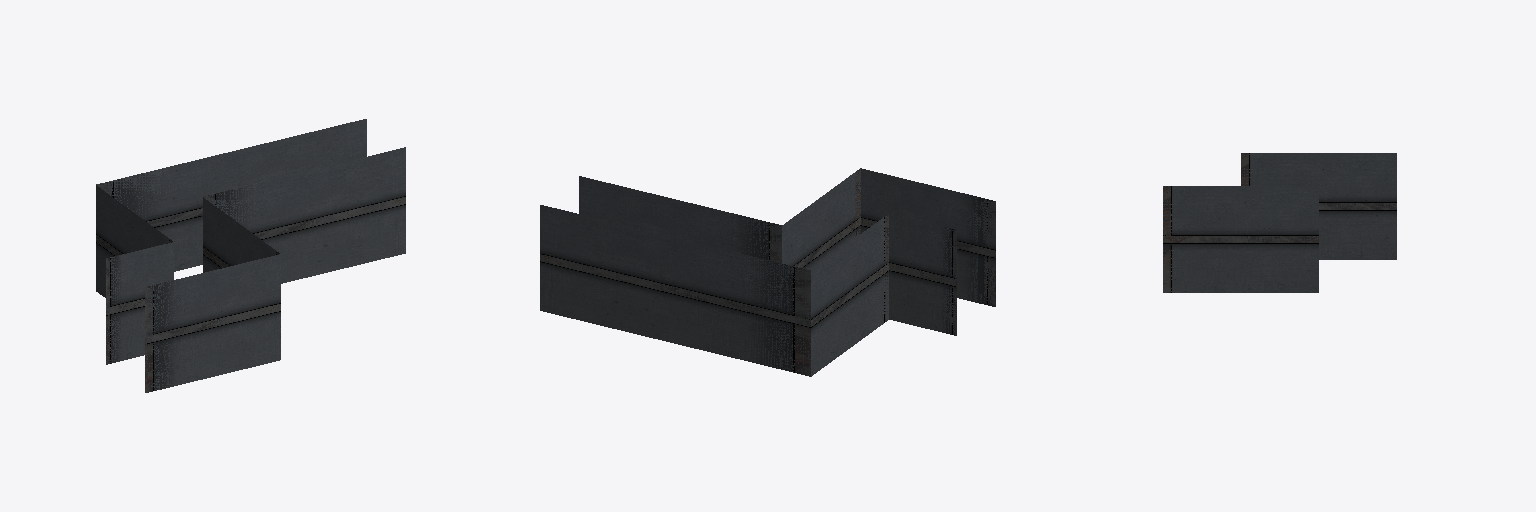
3 views of the same model, side by side, from view 1: azimuth 30°, elevation 25°; view 2: azimuth 150°, elevation 25°; view 3: azimuth 270°, elevation 25° (orthographic).
Parts seen in each view (by area): view 1: Cube.004, Cube.002, Cube.001, Cube.005, Cube.003, Cube; view 2: Cube.001, Cube.003, Cube.002, Cube.004, Cube.005, Cube; view 3: Cube, Cube.003.
Part boxes in pixels (x1,y1,x2,y2): Cube.004: (204,147,405,283); Cube.002: (145,254,280,392); Cube.001: (96,119,366,271); Cube.005: (106,242,173,364); Cube.003: (96,185,172,297); Cube: (203,197,279,272); Cube.001: (540,205,810,376); Cube.003: (811,214,888,376); Cube.002: (861,168,995,306); Cube.004: (579,176,781,262); Cube.005: (889,213,956,335); Cube: (782,168,860,269); Cube: (1163,186,1318,292); Cube.003: (1241,153,1396,259).
Size of the model in its own units: 20 by 6 by 12.
Materials: 6 (1 with a texture image).